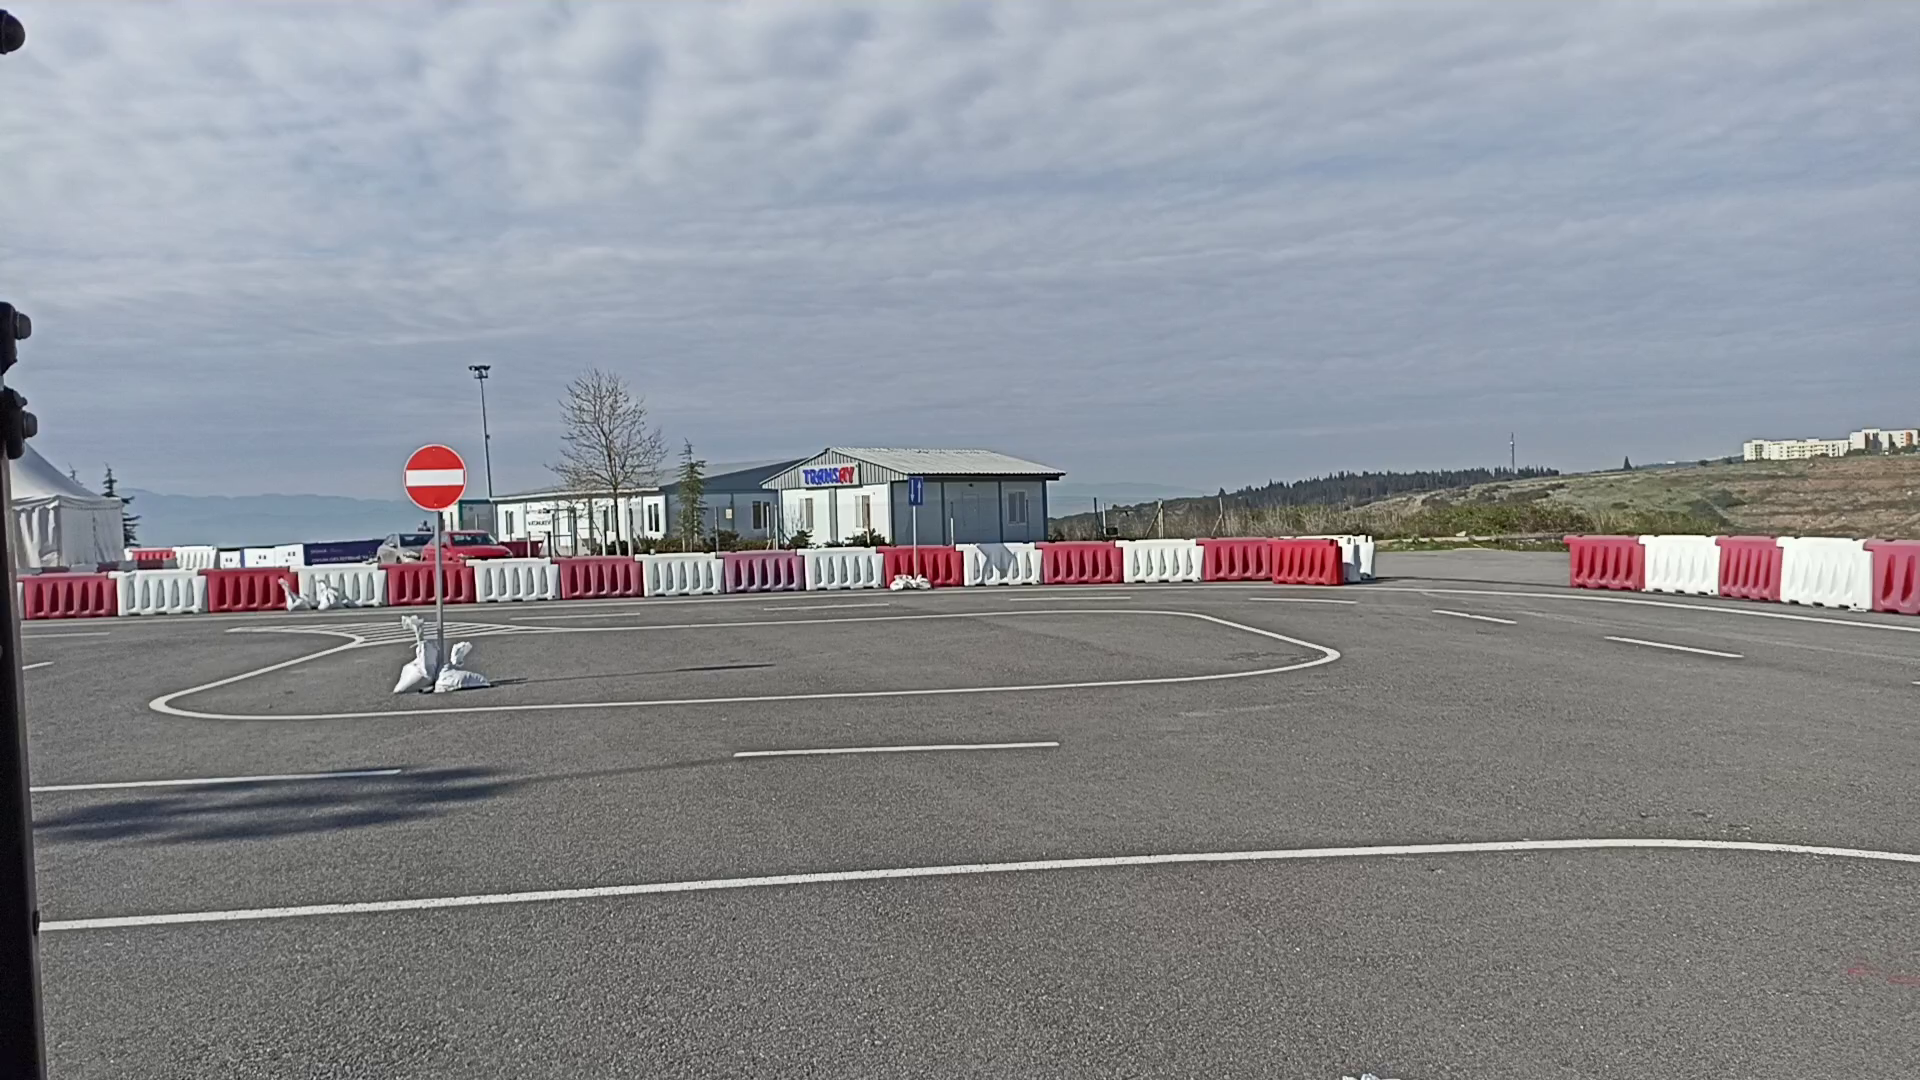noentryway: (401, 443, 468, 512)
